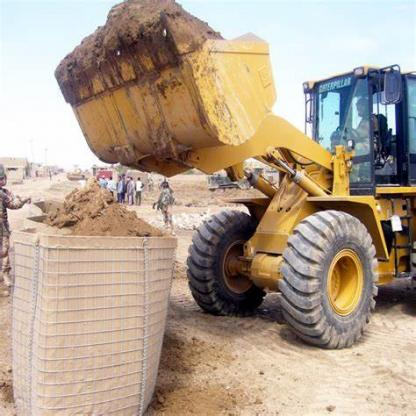bull_dozer/loader/grader: (58, 11, 415, 351)
